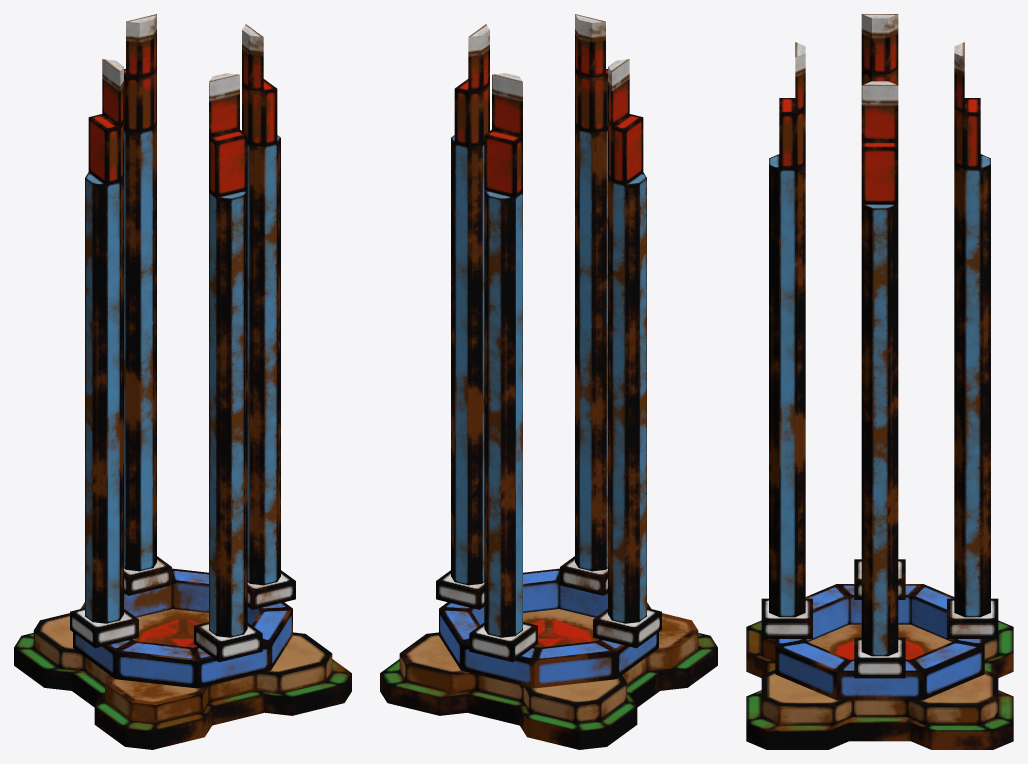
File: Totem.glb
3 renders of one model, left to right at view 1: azimuth 30°, elevation 25°; view 2: azimuth 150°, elevation 25°; view 3: azimuth 270°, elevation 25°, orthographic. The views are drawn at different scales.
Visible parts, largest first — view 1: Totem; view 2: Totem; view 3: Totem.
Boxes of the visible parts, <box> form: Totem: <box>14,14,351,749</box>; Totem: <box>380,14,717,749</box>; Totem: <box>746,14,1013,749</box>.
Bounding box in the file's own units: 2.6 × 6.9 × 2.6.
Materials: 1 (1 with a texture image).
